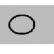no answer: (5, 12, 37, 36)
